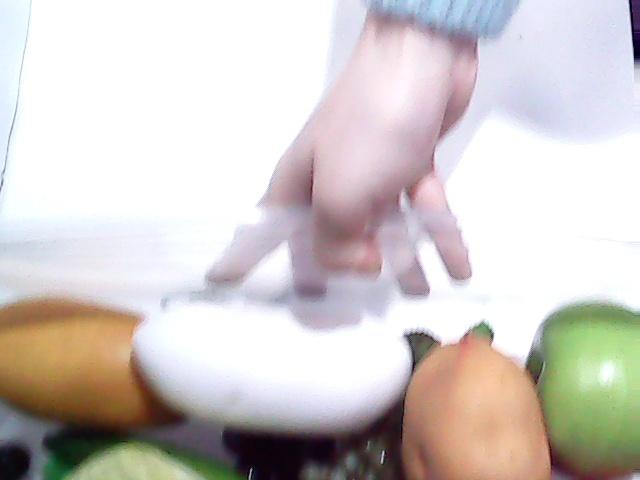apple: (528, 298, 640, 476)
grape: (218, 419, 406, 480)
mango: (0, 297, 212, 426)
napa cabbage: (54, 440, 212, 480)
potato: (400, 328, 552, 480)
radish: (130, 299, 412, 442)
